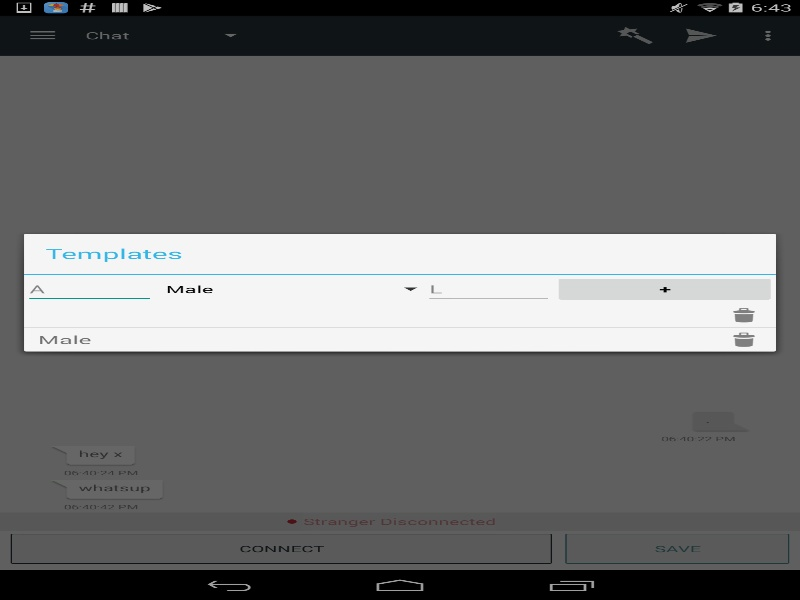Button: (553, 275, 776, 303), (722, 305, 765, 325), (722, 329, 765, 349)
Input: (24, 275, 155, 303), (424, 275, 553, 303)
